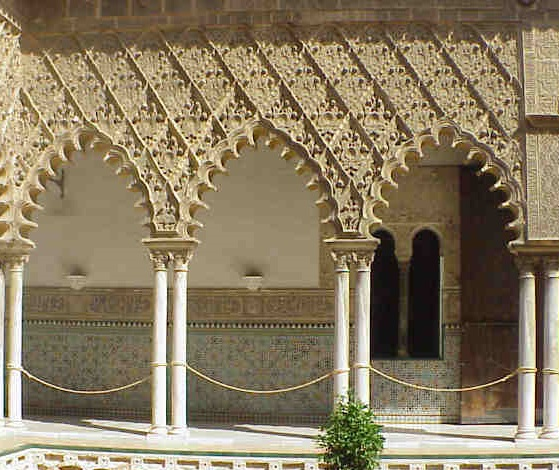arco-lobulado: (351, 109, 539, 270), (172, 110, 352, 268), (1, 119, 170, 263)
